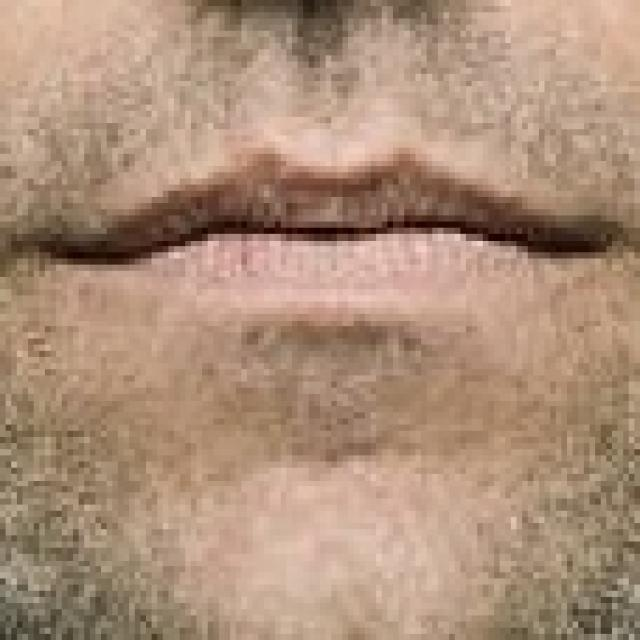closed-mouth: (34, 142, 624, 308)
